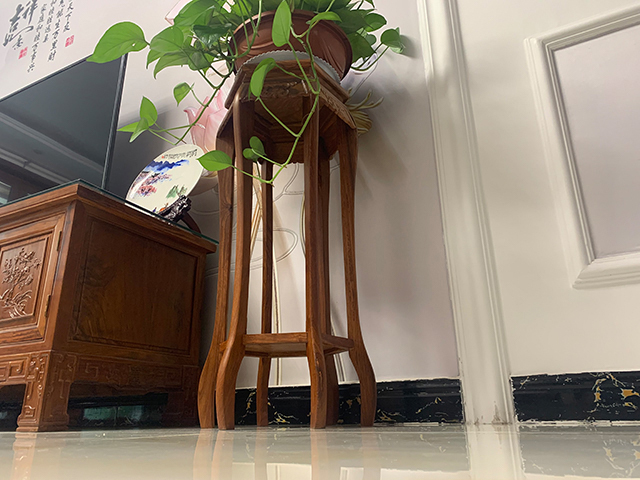cabinet: (1, 177, 219, 433)
